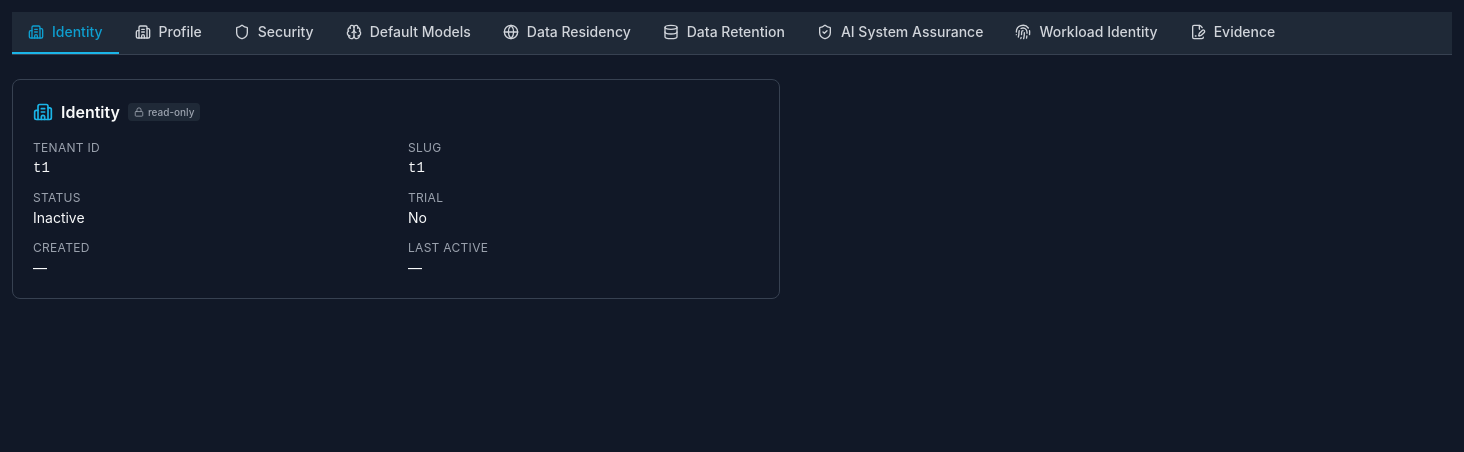
Scenario: TenantSettingsTab — Default Models, with the embedding model contributed › the sub-tab is editable and sits where it did
Check: the button "Profile" is shown, box top-left (118, 12), bottom-right (218, 54)
Click the button "Default Models" at (408, 33), box top-left (330, 12), bottom-right (487, 54)
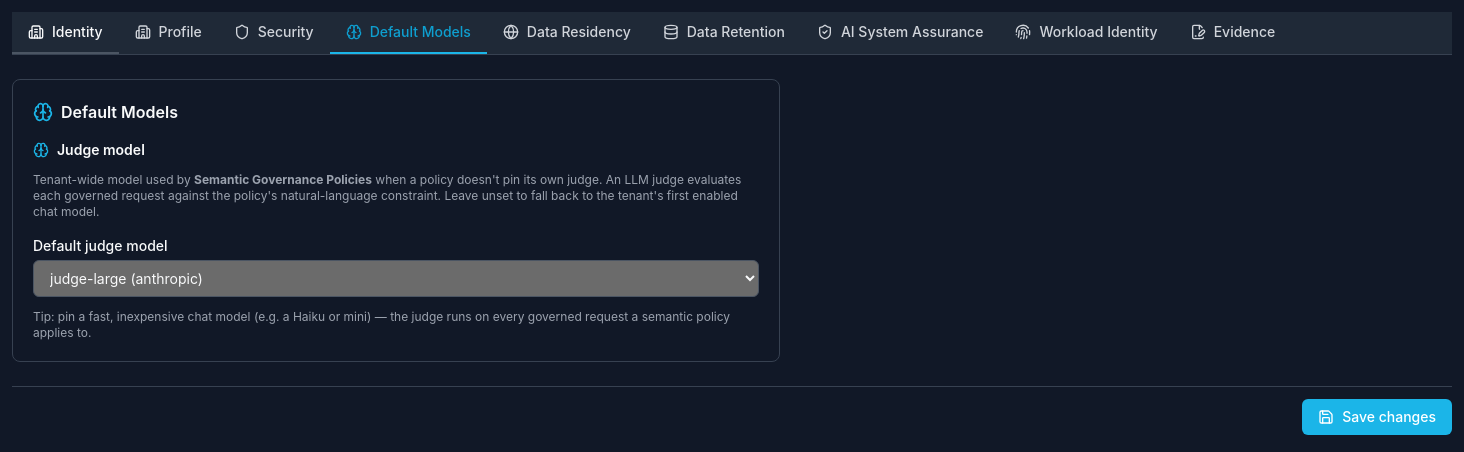
Check: the text "read-only" is gone
Check: the button "Save changes" is shown, box top-left (1302, 399), bottom-right (1452, 435)
